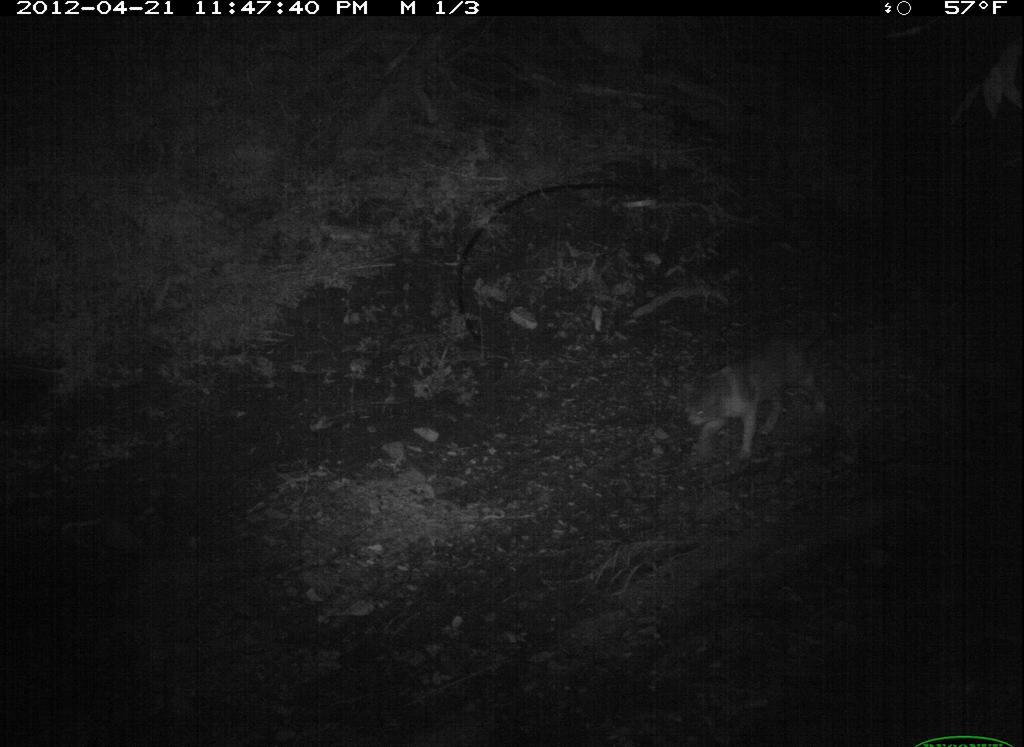cat: (671, 321, 850, 478)
